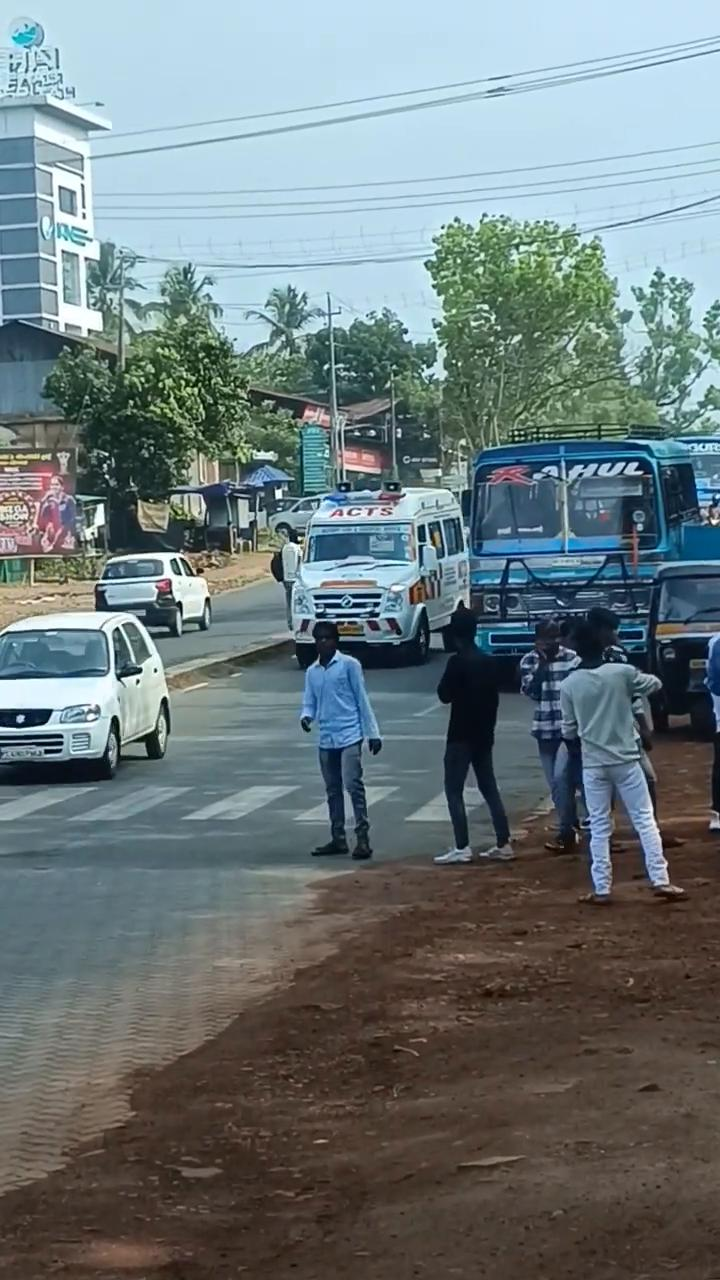AMBULANCE: (291, 475, 461, 646)
